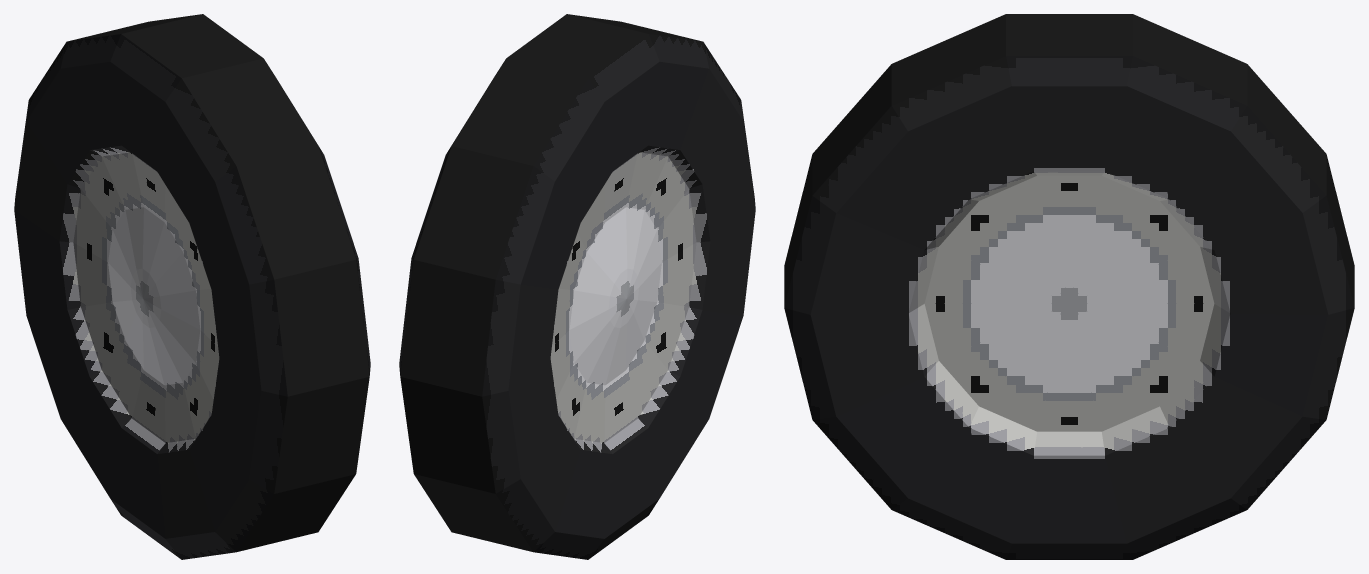
The model's file is wheel_classic12_l.glb.
3 views of the same model, side by side, from view 1: azimuth 30°, elevation 25°; view 2: azimuth 150°, elevation 25°; view 3: azimuth 270°, elevation 25° (orthographic). The views are drawn at different scales.
Parts seen in each view (by area): view 1: Wheel; view 2: Wheel; view 3: Wheel.
Boxes of the visible parts, bbox=[...] form: Wheel: bbox=[14, 14, 370, 559]; Wheel: bbox=[399, 14, 755, 559]; Wheel: bbox=[784, 14, 1354, 559].
Size of the model in its own units: 0.125 by 0.5265 by 0.54.
Materials: 2 (1 with a texture image).
